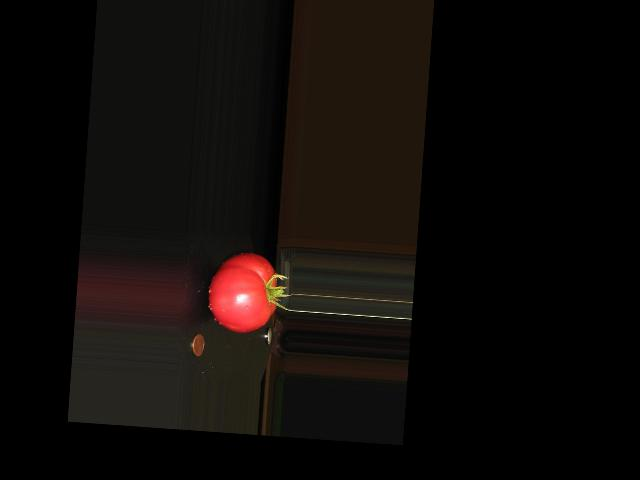tomato: (205, 249, 280, 334)
